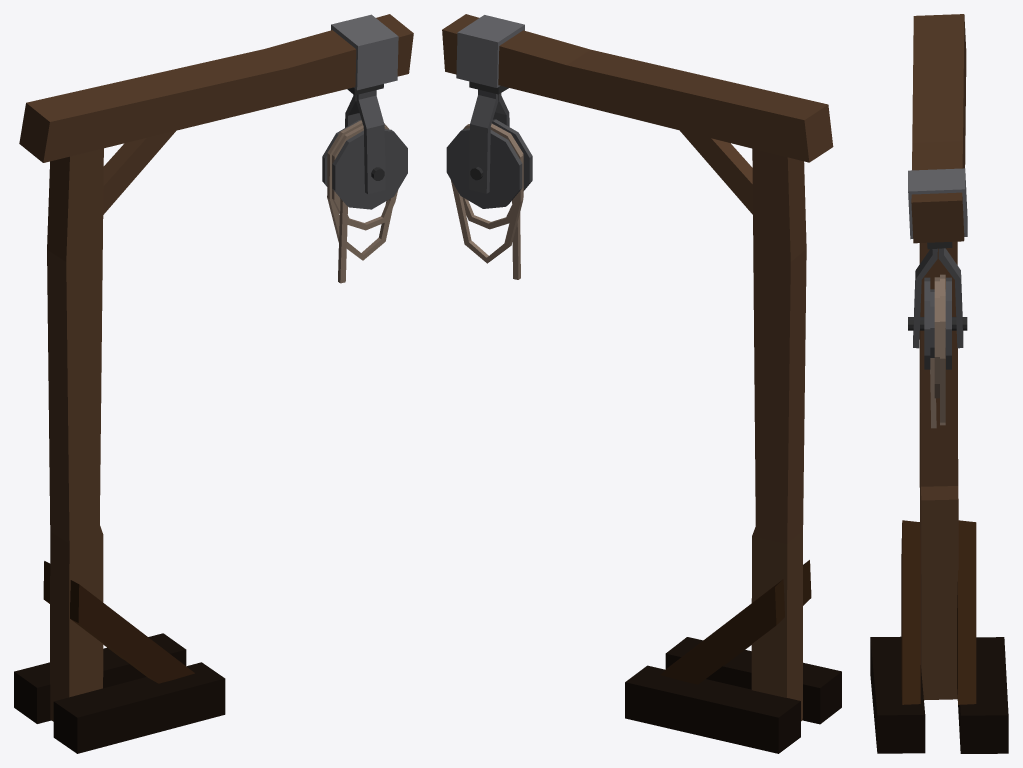
File: Rope Tool.glb
3 views of the same model, side by side, from view 1: azimuth 30°, elevation 25°; view 2: azimuth 150°, elevation 25°; view 3: azimuth 270°, elevation 25° (orthographic). The views are drawn at different scales.
Parts seen in each view (by area): view 1: Rope Tool; view 2: Rope Tool; view 3: Rope Tool.
Part boxes in pixels (x1,y1,x2,y2): Rope Tool: (14, 14, 413, 753); Rope Tool: (442, 14, 841, 753); Rope Tool: (870, 14, 1008, 753).
Size of what is drawn, in the model's own units: 2.26 by 3.64 by 0.6893.
Materials: 1 (1 with a texture image).
